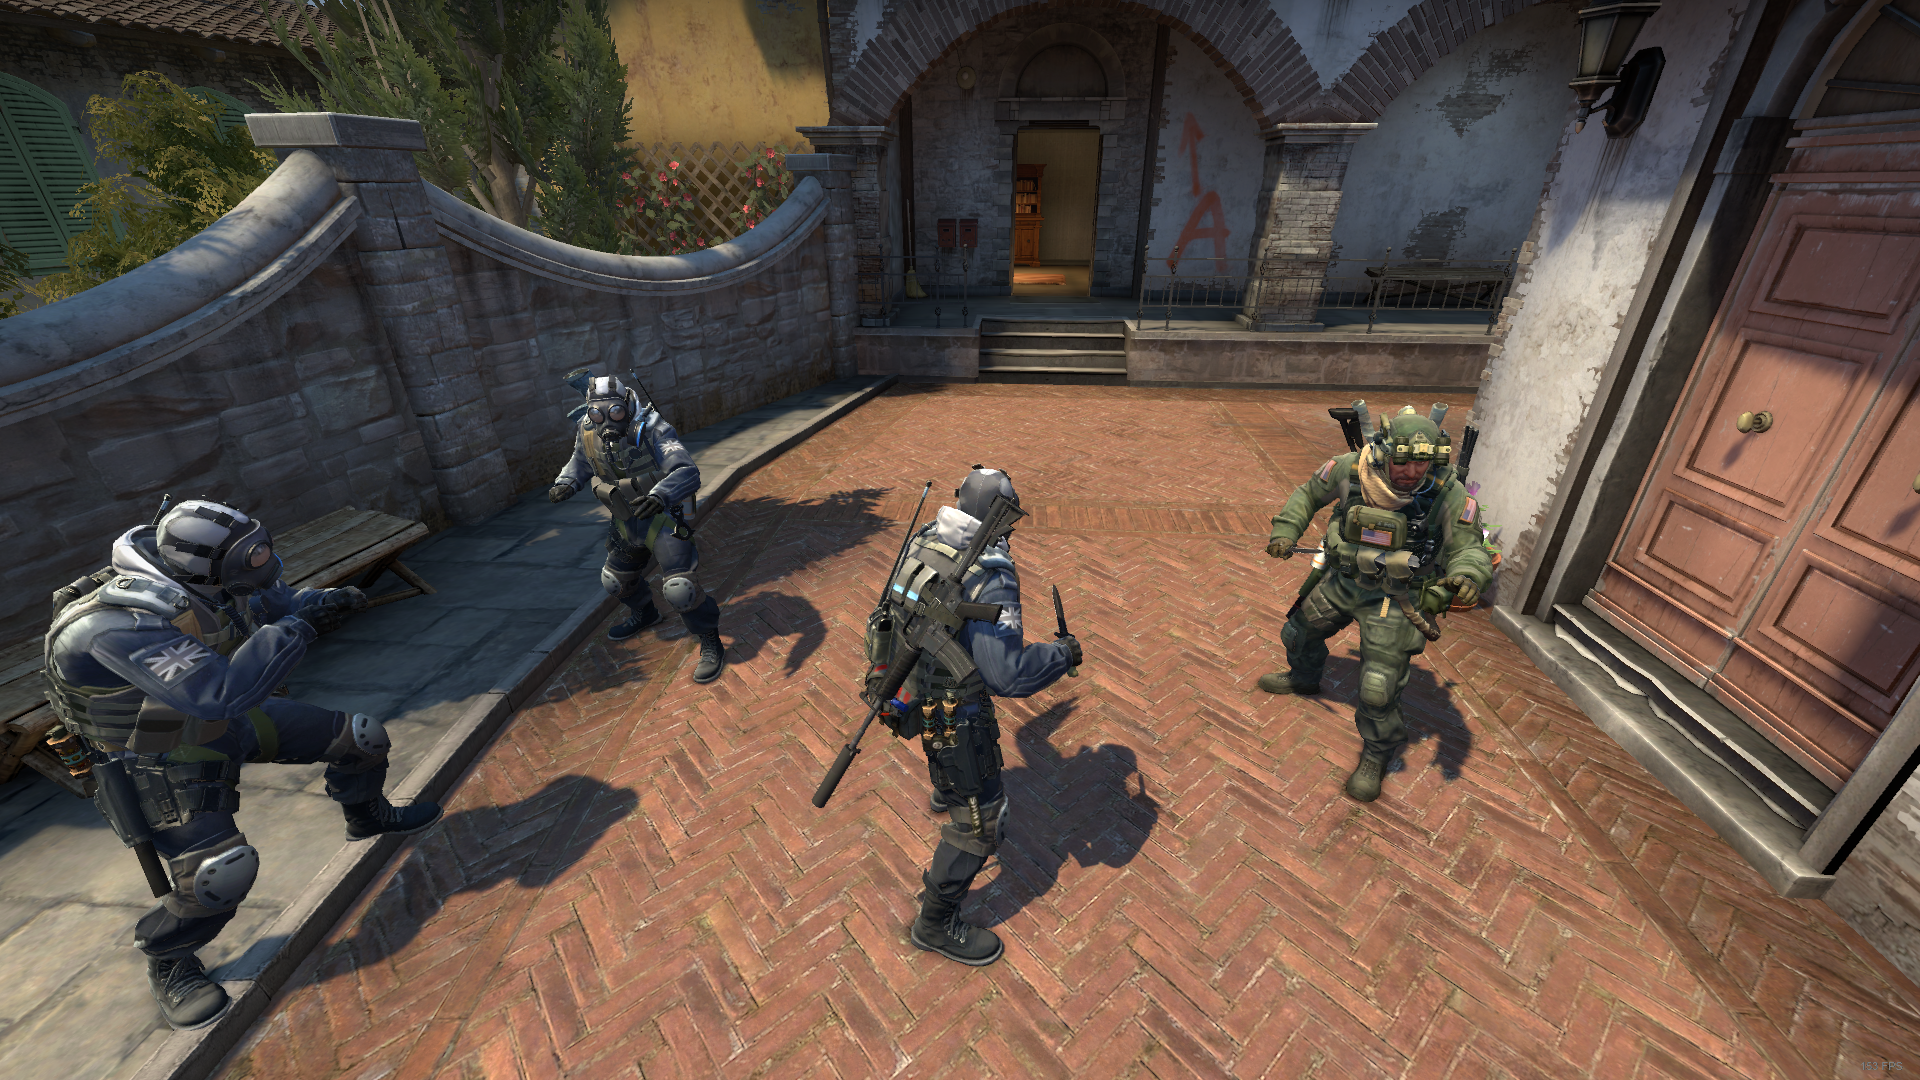ct: (38, 496, 444, 1029), (865, 463, 1083, 956), (550, 375, 727, 687)
